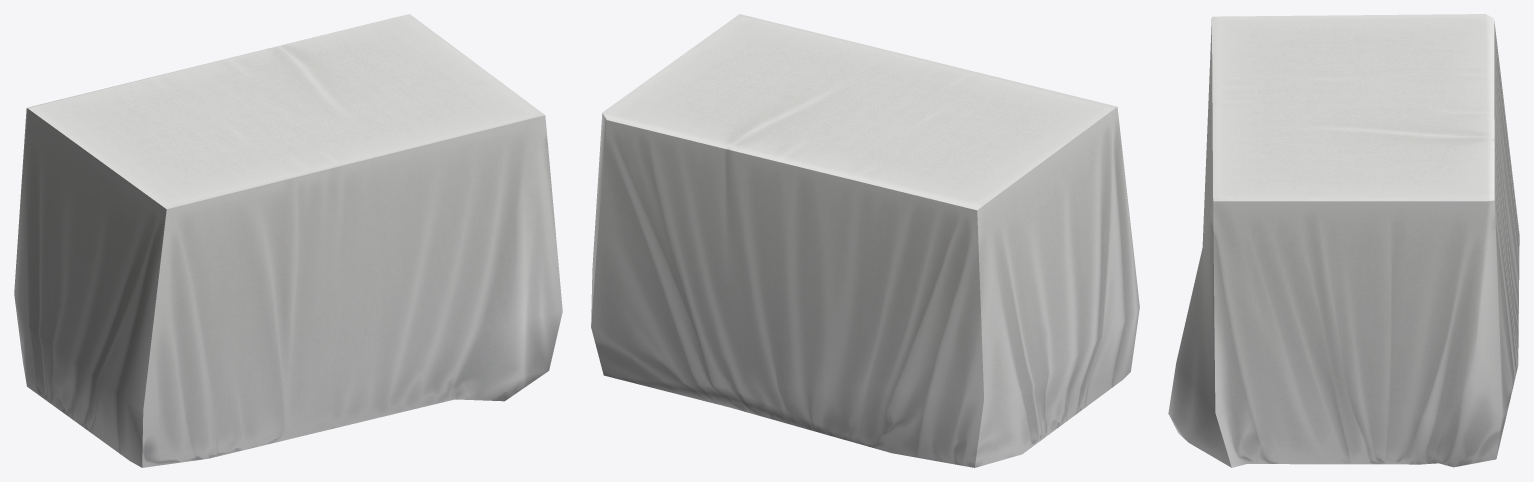
The model's file is Pfb_Box_GRP__20.fbx.
3 renders of one model, left to right at view 1: azimuth 30°, elevation 25°; view 2: azimuth 150°, elevation 25°; view 3: azimuth 270°, elevation 25°, orthographic.
Visible parts, largest first — view 1: MAT_Canvas_02_White; view 2: MAT_Canvas_02_White; view 3: MAT_Canvas_02_White.
Part boxes in pixels (x1,y1,x2,y2): MAT_Canvas_02_White: [14, 14, 562, 467]; MAT_Canvas_02_White: [591, 14, 1139, 467]; MAT_Canvas_02_White: [1168, 14, 1519, 467].
Bounding box in the file's own units: 2.65 × 1.54 × 1.88.
1 material, 1 textured.
